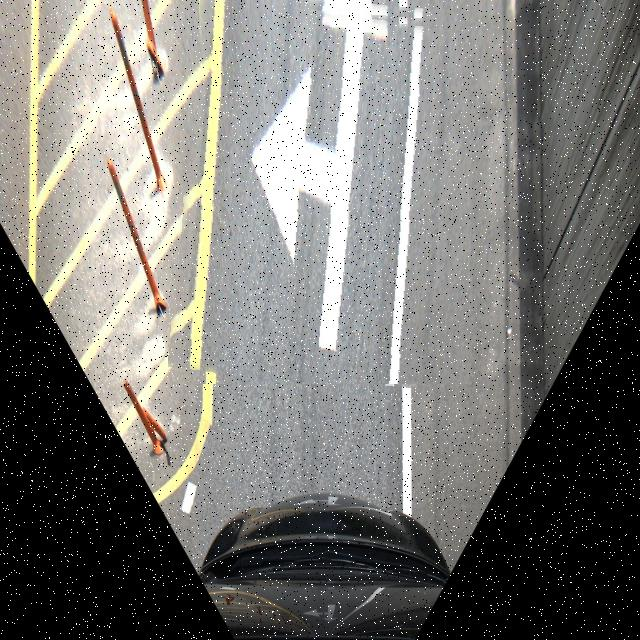forward_left: (176, 0, 469, 384)
